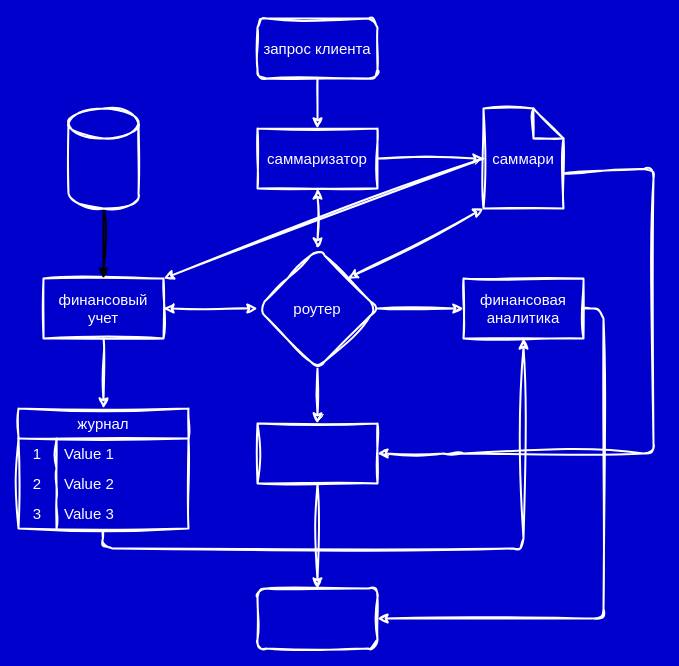
The diagram is 679 pixels wide and 666 high, and some of its shapes have lost their labels. The shapes that lost their labels are listed below. From the top down, each one's centre as x and y in pixels, then its label:
pixel 103 158: база знаний
pixel 317 453: уточнение информации
pixel 317 618: ответ
